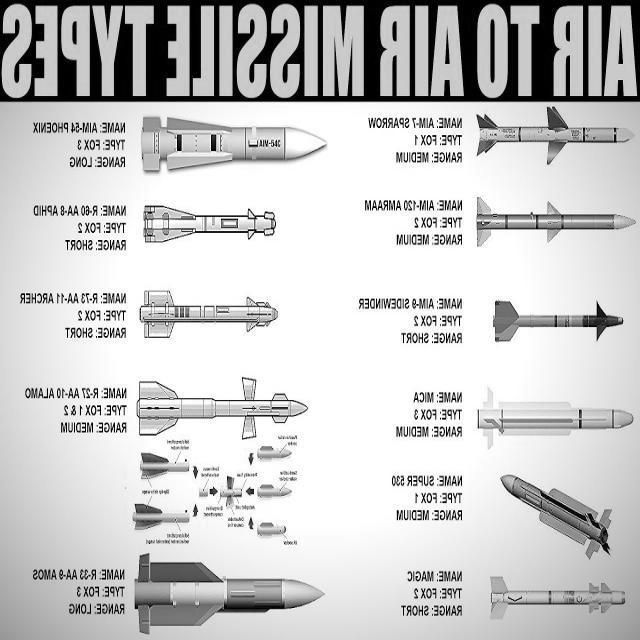Missile: (124, 549, 334, 640), (138, 98, 324, 190), (135, 359, 315, 453), (498, 457, 617, 565), (136, 263, 278, 352), (472, 196, 640, 269), (461, 105, 634, 174), (482, 567, 640, 629), (481, 290, 625, 354)
